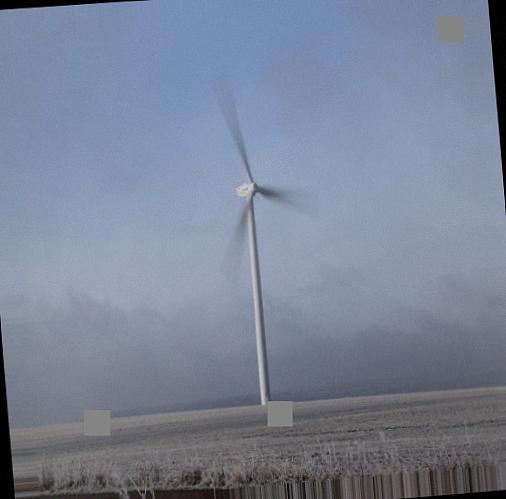wind turbine: (213, 78, 320, 408)
